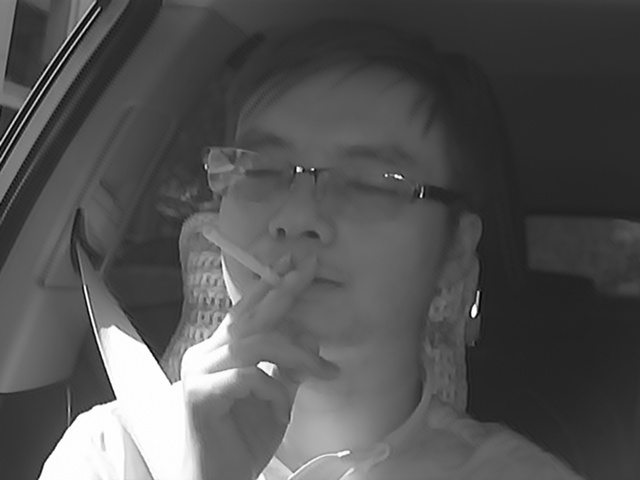hand: (173, 254, 327, 439)
